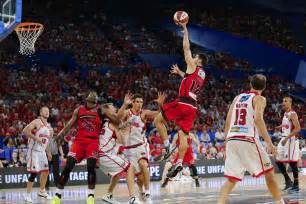basketball: (173, 10, 188, 26)
